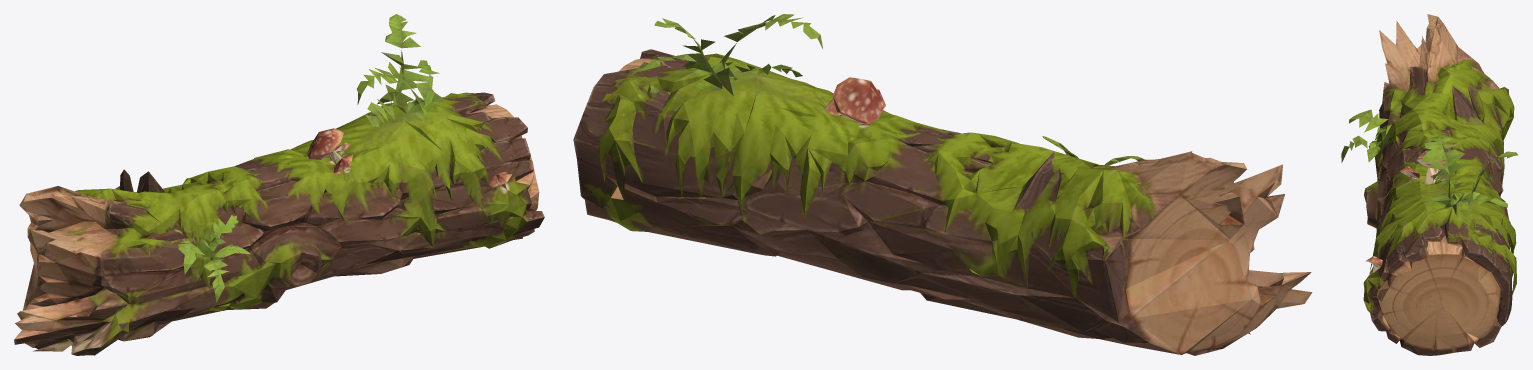
The model's file is forest_log.glb.
3 views of the same model, side by side, from view 1: azimuth 30°, elevation 25°; view 2: azimuth 150°, elevation 25°; view 3: azimuth 270°, elevation 25° (orthographic). The views are drawn at different scales.
Parts seen in each view (by area): view 1: output_unwrapped; view 2: output_unwrapped; view 3: output_unwrapped.
Boxes of the visible parts, x1,y1,x2,y2 form: output_unwrapped: (14, 14, 544, 355); output_unwrapped: (573, 14, 1312, 355); output_unwrapped: (1341, 14, 1518, 355).
Bounding box in the file's own units: 1.9 × 0.6835 × 0.632.
1 material, 1 textured.
